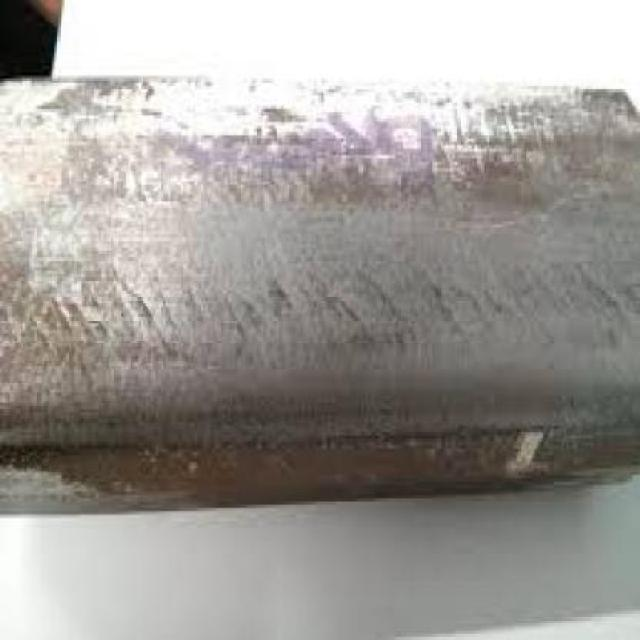defective: (0, 52, 640, 501)
